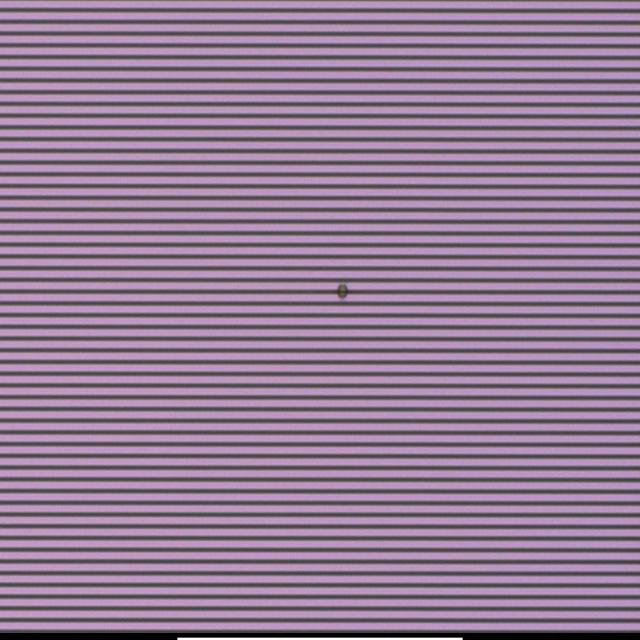03_intrusion: (335, 280, 351, 302)
